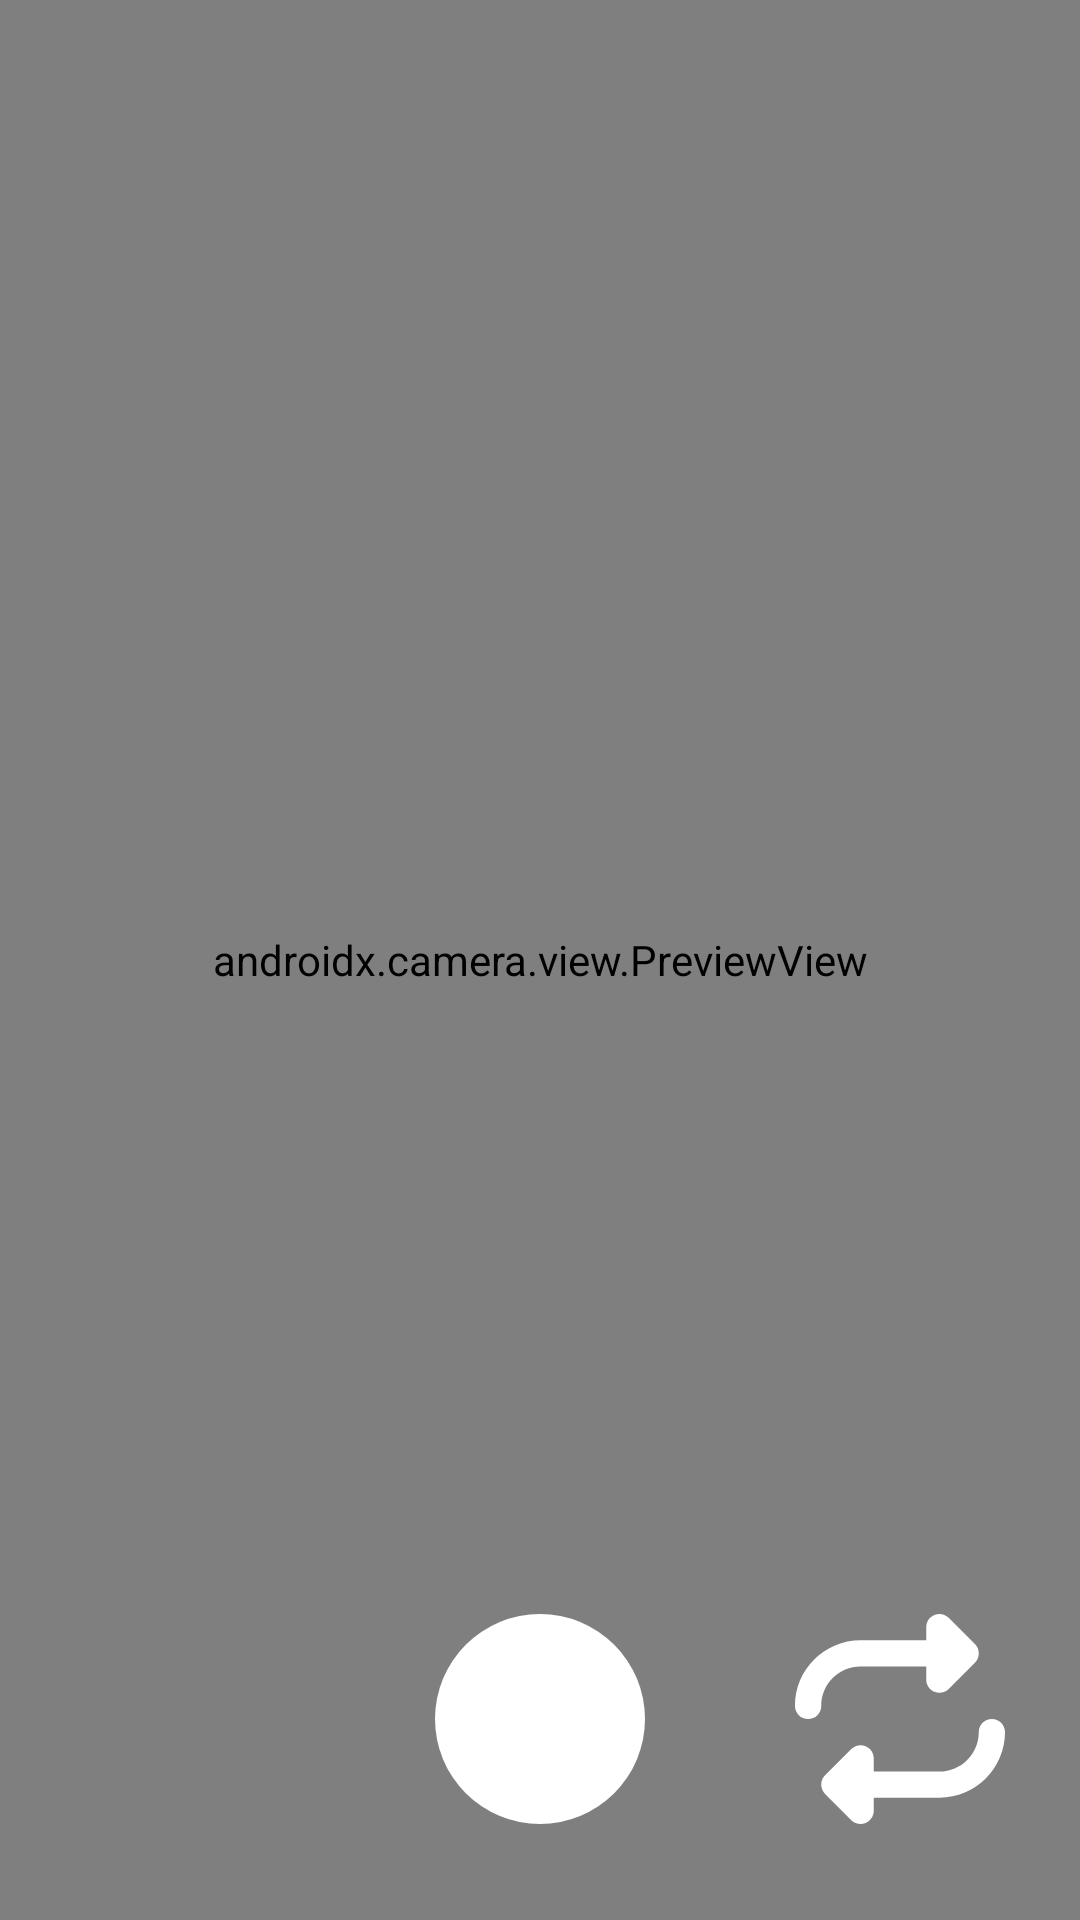

Where to tap for icons on this 1080px×1920px app screen, as point (x, y):
Switch Camera: point (900, 1719)
